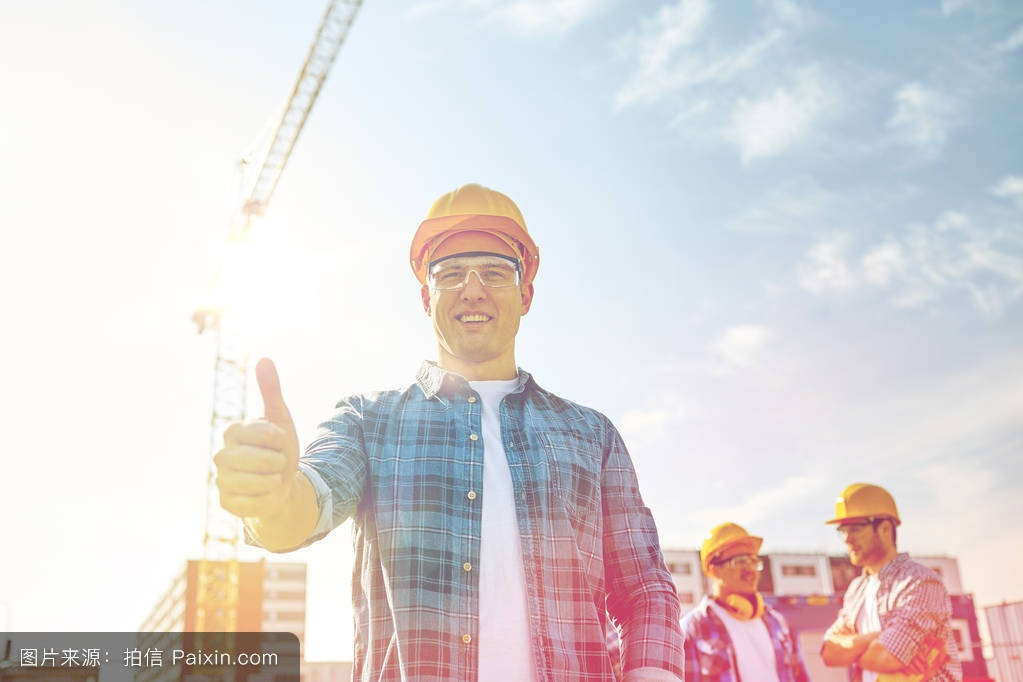yellow: (407, 181, 545, 365), (833, 479, 901, 574), (698, 522, 765, 601)
